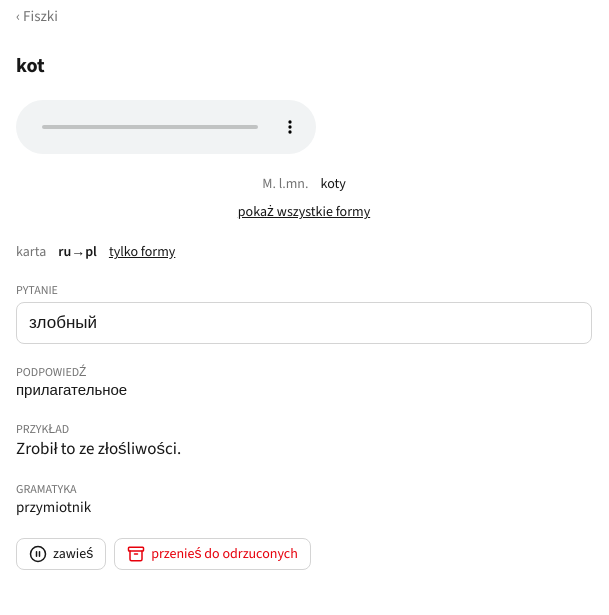
Scenario: CardDetailPage › shows the basic forms, with the extended ones behind a tap
The width and height of the screenshot is (609, 615).
Expected: the text "koty" is shown, [320,174,346,194]
Expected: the text "kotu · kotom" is not shown
Click the button "pokaż wszystkie formy" at coordinates (304, 212), box [238,202,370,222]
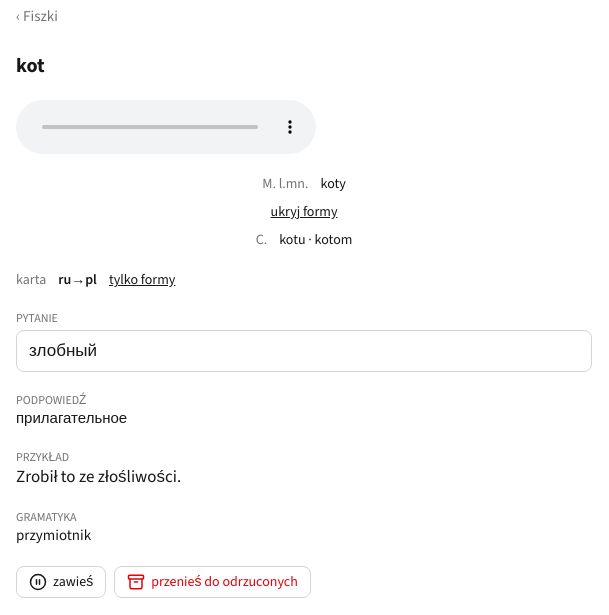
Expected: the text "kotu · kotom" is shown, [279,230,352,250]
